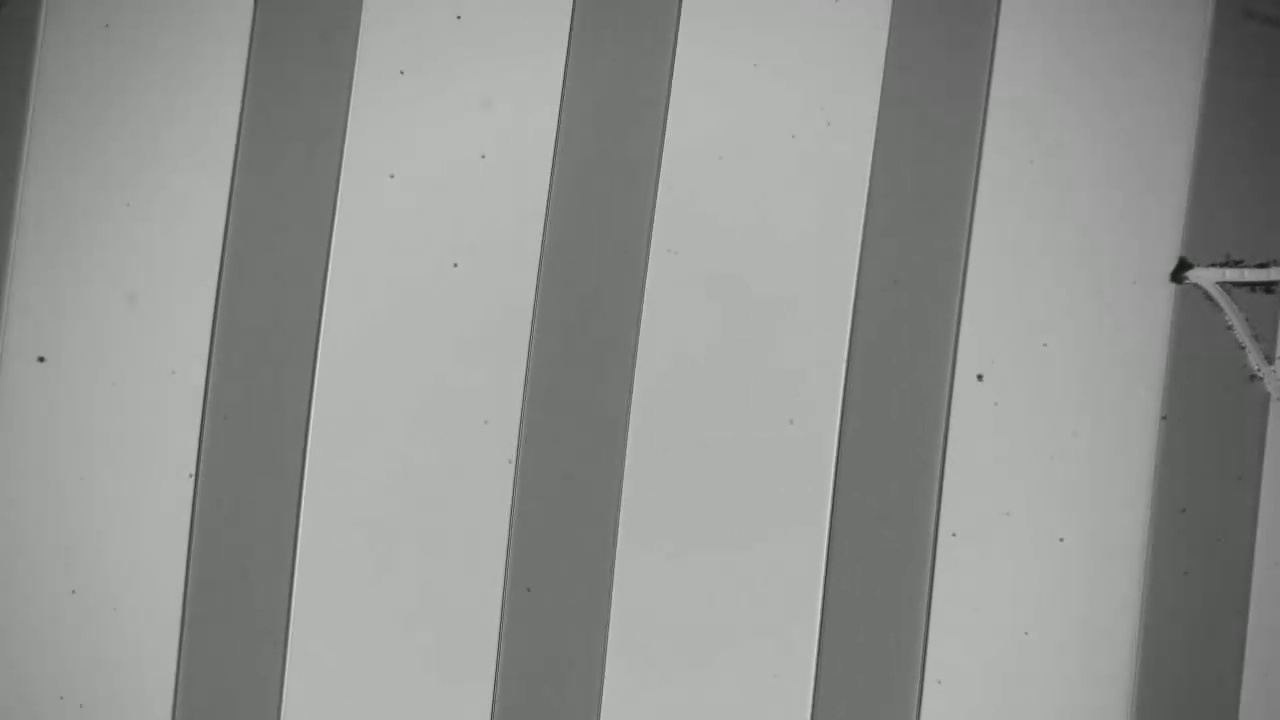Short_circuit: (1148, 236, 1279, 316)
